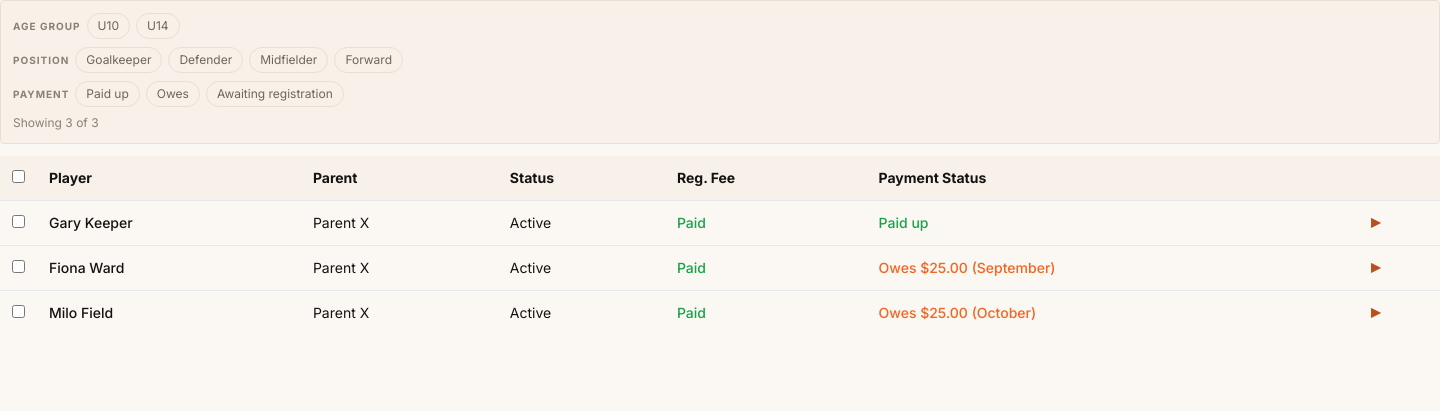
Test: PlayersTable bulk selection › shows the bulk bar once rows are selected and hides it on a filter change
Click the checkbox named "Select Gary Keeper".
click(18, 222)  # box [12,215,25,228]
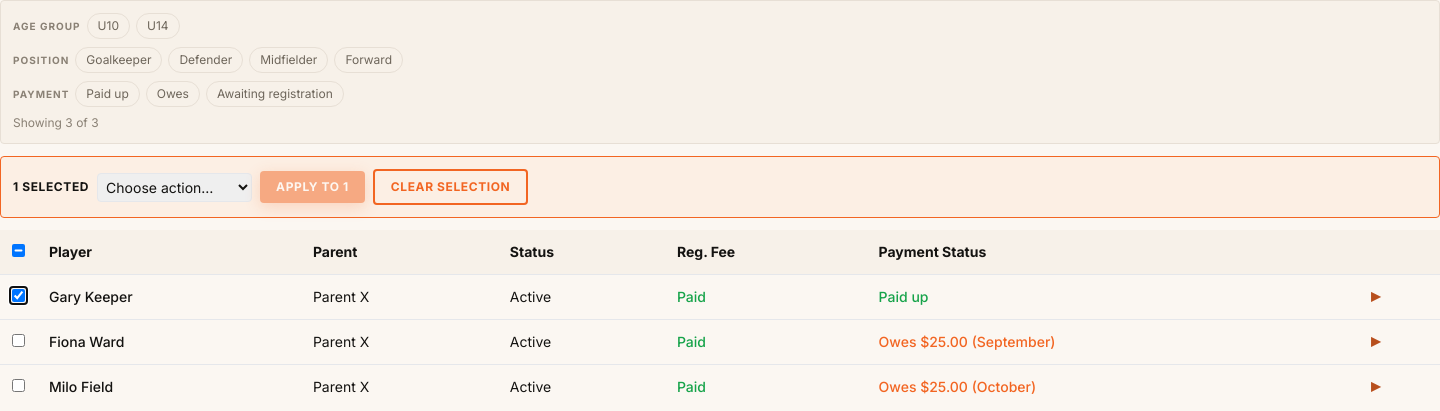
Check: the text "1 selected" is shown, box [13,179,89,195]
Note: toggling a filter clears the selection
Click the button "Forward".
click(369, 60)  # box [334,47,403,73]
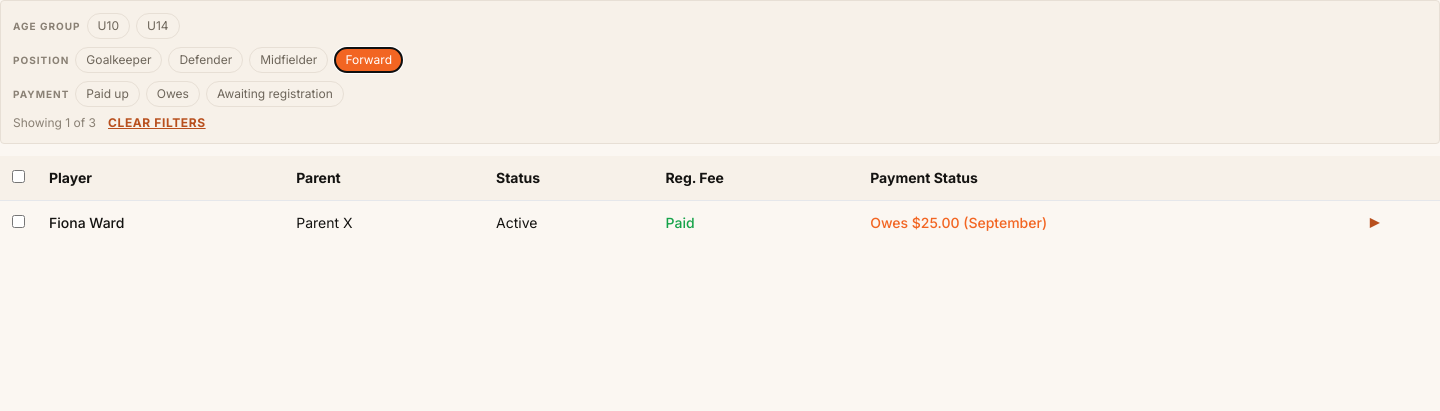
Check: the text "selected" is gone
